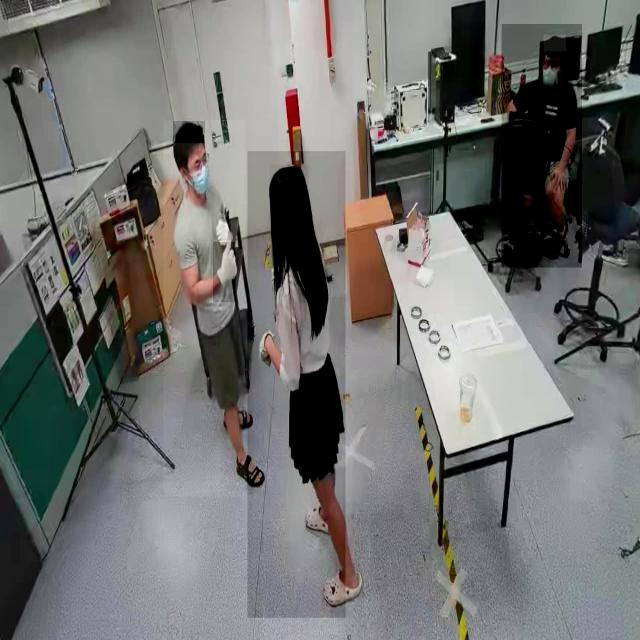face_mask: (193, 158, 213, 200), (542, 66, 562, 84)
hand_glove: (213, 242, 235, 302), (212, 211, 236, 249)
hand_noglove: (550, 162, 568, 194)
head_nohelmet: (269, 164, 309, 196), (173, 121, 205, 144), (543, 34, 566, 52)
person: (247, 151, 345, 619), (163, 120, 245, 498), (501, 24, 582, 268)
